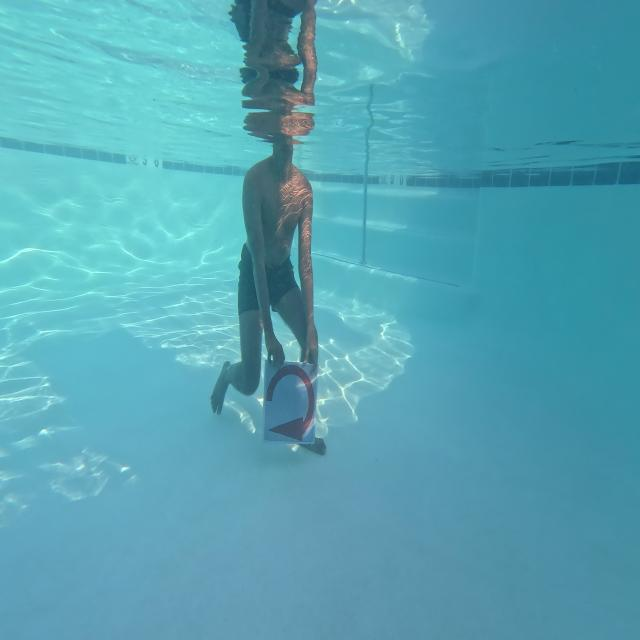red_side: (262, 351, 318, 459)
